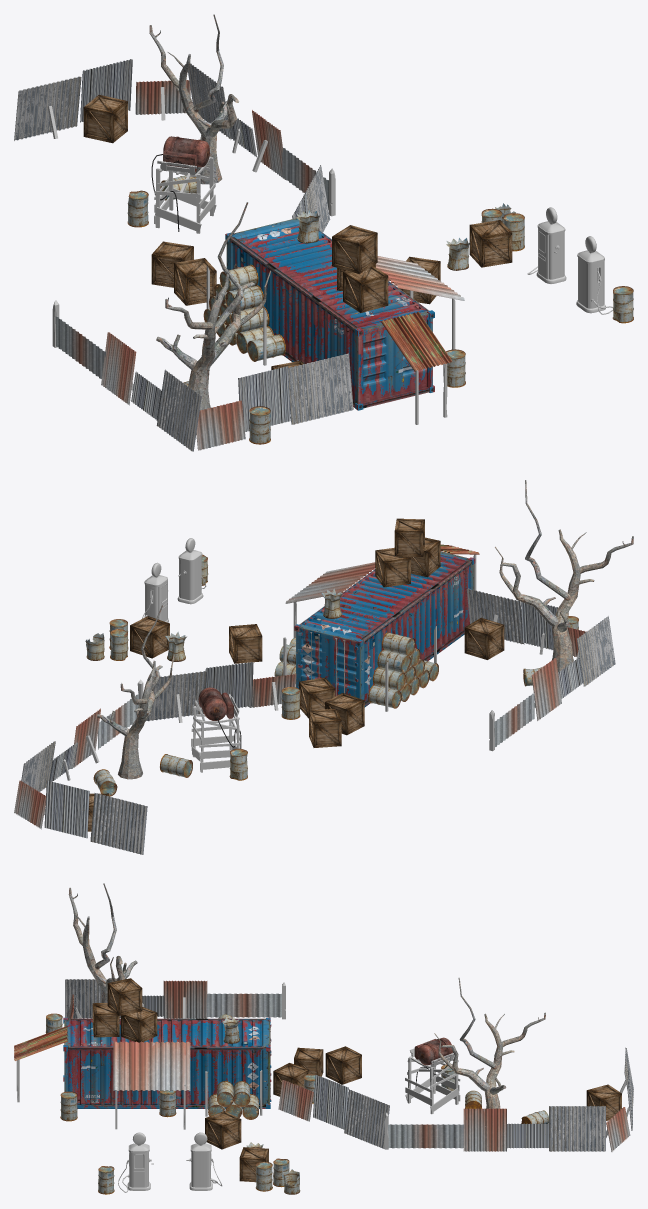
File: mh_module_gasstation_000.fbx
The picture shows the model from 3 angles, top to bottom: view 1: azimuth 30°, elevation 25°; view 2: azimuth 150°, elevation 25°; view 3: azimuth 270°, elevation 25°; orthographic projection. The views are drawn at different scales.
Visible parts, largest first — view 1: container, tree1, corrugate16, corrugate9, tree, corrugate14, corrugate17, green_corrugate, corrugate18, corrugate8, box6, box9 (+29 smaller); view 2: container, tree1, corrugate9, tree, corrugate8, corrugate4, corrugate16, corrugate14, corrugate3, rusted_corrugate, box8, gas_station (+29 smaller); view 3: container, rusted_corrugate, corrugate11, tree, corrugate5, corrugate12, corrugate6, corrugate4, tree1, corrugate13, corrugate3, gas_station1 (+22 smaller).
Boxes of the visible parts, x1,y1,x2,y2 form: container: (225,216,434,410); tree1: (156,202,270,410); corrugate16: (288,353,353,424); corrugate9: (14,76,81,140); tree: (149,14,239,184); corrugate14: (156,369,201,451); corrugate17: (238,366,290,431); green_corrugate: (381,311,452,371); corrugate18: (196,400,245,450); corrugate8: (80,59,132,122); box6: (332,225,377,273); box9: (83,94,127,143); container: (294,551,475,707); tree1: (495,480,633,672); corrugate9: (90,793,147,854); tree: (97,605,174,779); corrugate8: (44,780,89,838); corrugate4: (146,671,206,722); corrugate16: (466,588,524,644); corrugate14: (577,616,615,686); corrugate3: (205,662,253,708); rusted_corrugate: (285,562,375,603); box8: (464,617,504,659); gas_station: (177,538,206,604); container: (63,1017,271,1108); rusted_corrugate: (113,1041,190,1091); corrugate11: (549,1106,605,1151); tree: (434,977,545,1108); corrugate5: (384,1112,464,1149); corrugate12: (206,982,285,1019); corrugate6: (463,1108,506,1151); corrugate4: (344,1089,389,1148); tree1: (68,883,137,1002); corrugate13: (163,980,207,1018); corrugate3: (313,1074,348,1129); gas_station1: (186,1132,222,1190).
Size of the model in its own units: 17.23 by 7.16 by 24.09.
